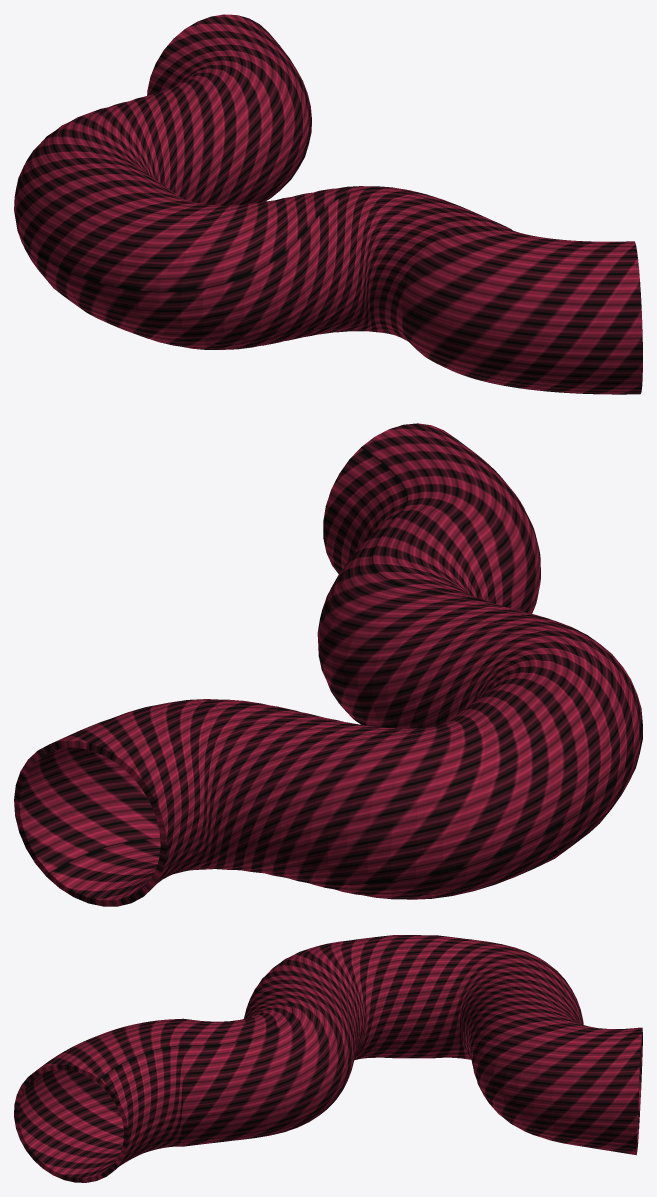
File: Curvytunnel .fbx
3 renders of one model, top to bottom at view 1: azimuth 30°, elevation 25°; view 2: azimuth 150°, elevation 25°; view 3: azimuth 270°, elevation 25°, orthographic. The views are drawn at different scales.
Visible parts, largest first — view 1: second curve tunnel; view 2: second curve tunnel; view 3: second curve tunnel.
Boxes of the visible parts, left/top/right/bottom form: second curve tunnel: left=14, top=14, right=642, bottom=394; second curve tunnel: left=14, top=423, right=642, bottom=906; second curve tunnel: left=14, top=935, right=642, bottom=1182.
Bounding box in the file's own units: 1643 × 2651 × 538.
